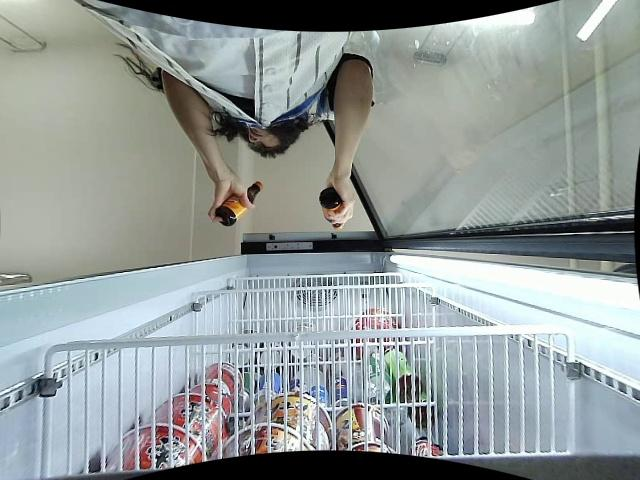00_hand: (207, 179, 253, 225), (324, 175, 355, 229)
17_vita500: (215, 181, 261, 227), (318, 187, 345, 231)
